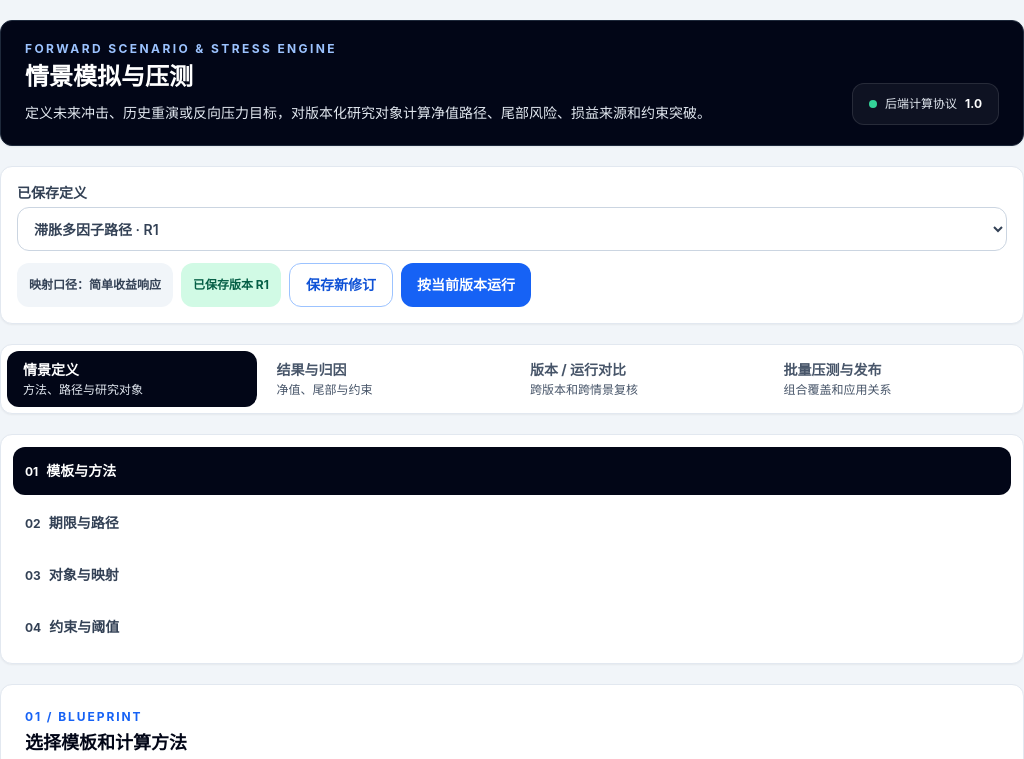
ScenarioAlgorithmCenter › 多对象定义可批量压测，并按用途发布精确运行
Expected: the heading "情景模拟与压测" is shown, [25,62,193,91]
Step 1. Click the tab "批量压测与发布 组合覆盖和应用关系" → x=892, y=379, box [768,351,1017,407]
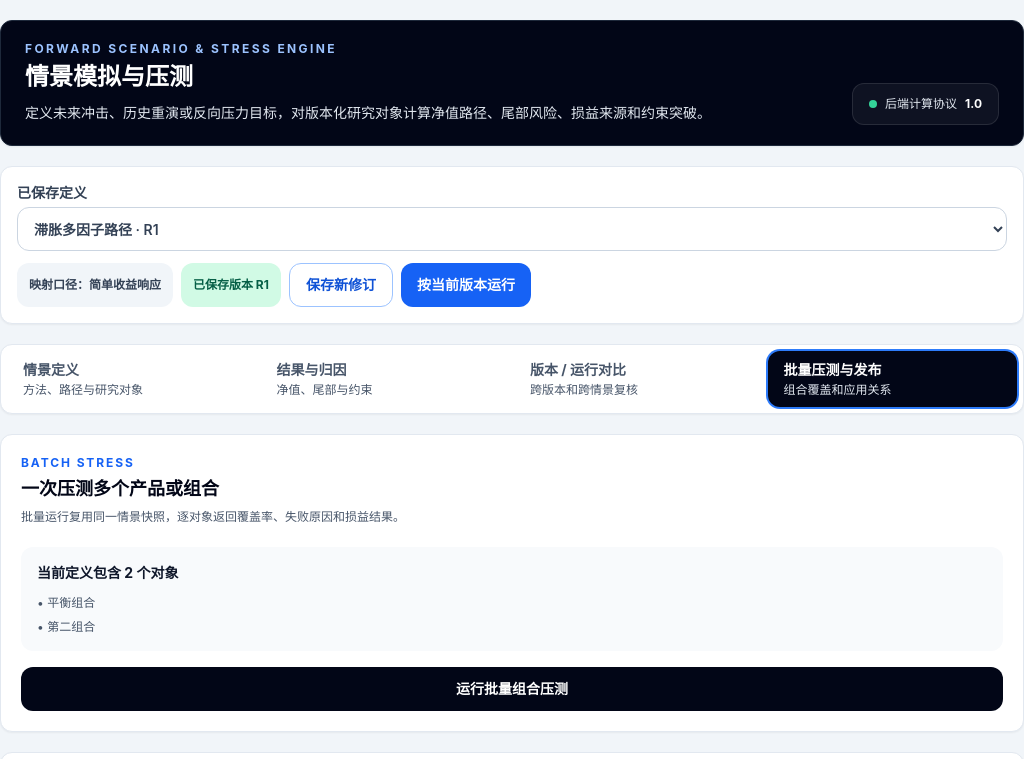
Expected: the text "当前定义包含 2 个对象" is shown, [37,564,178,581]
Step 2. Click the button "运行批量组合压测" → x=512, y=689, box [21,667,1003,711]
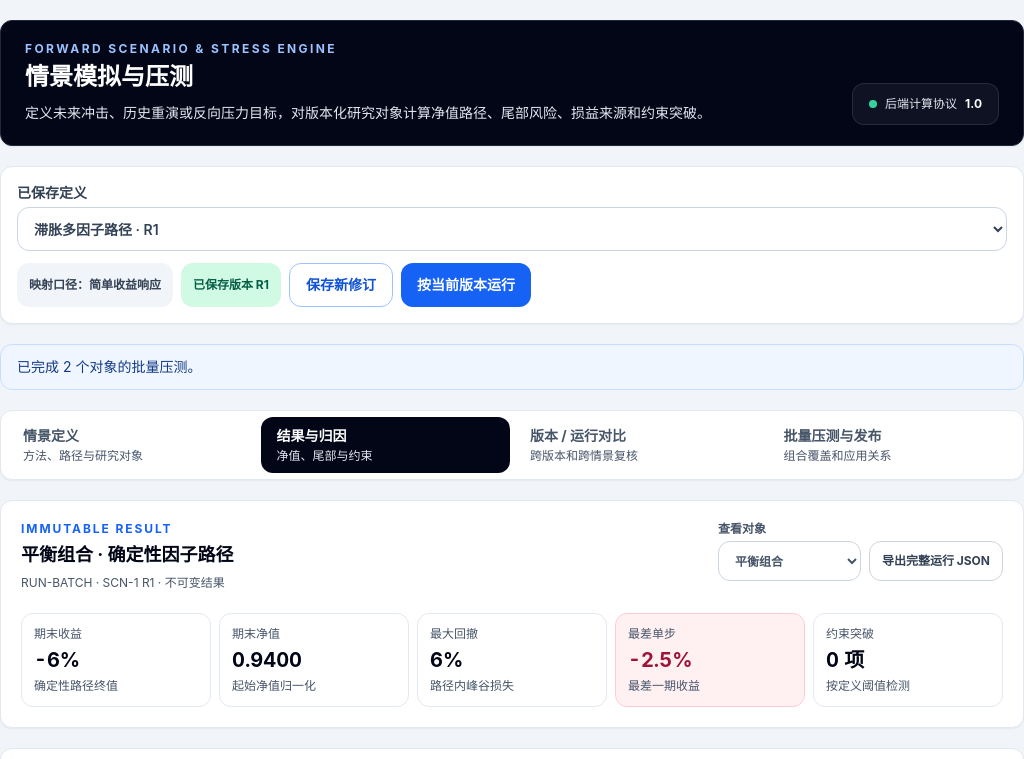
Expected: the text "已完成 2 个对象的批量压测。" is shown, [0,344,1023,390]
Step 3. Click the tab "批量压测与发布 组合覆盖和应用关系" → x=892, y=445, box [768,417,1017,473]
(page scrolled)
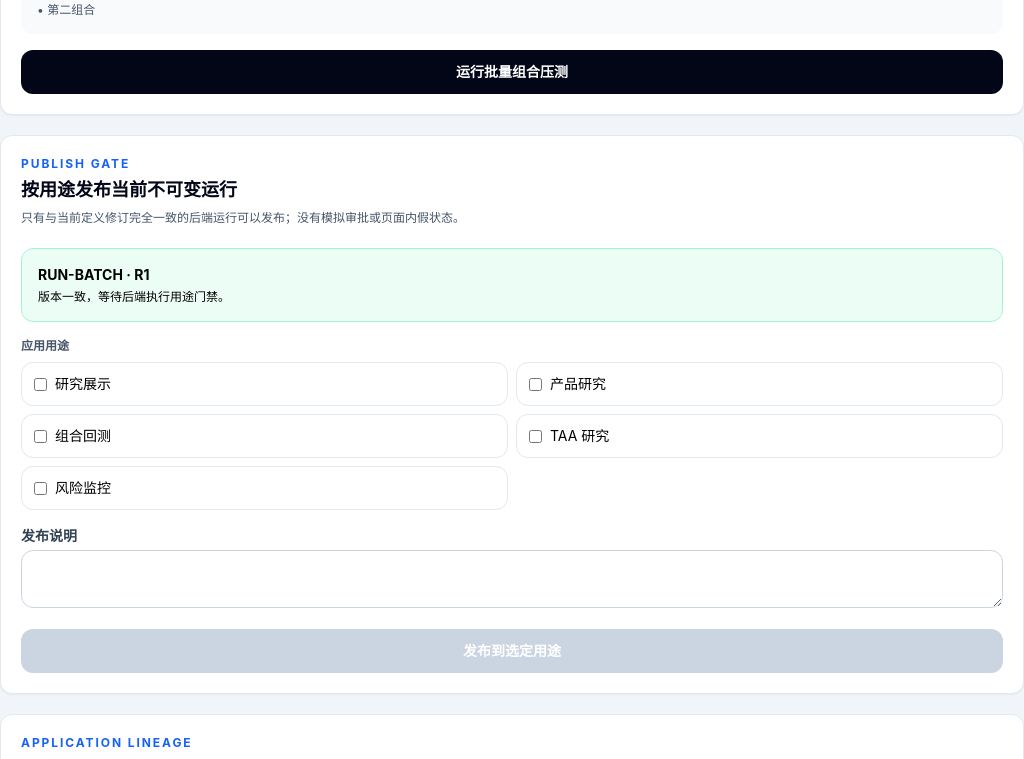
Step 4. Click the checkbox labelled "产品研究" → x=536, y=384, box [529,378,542,390]
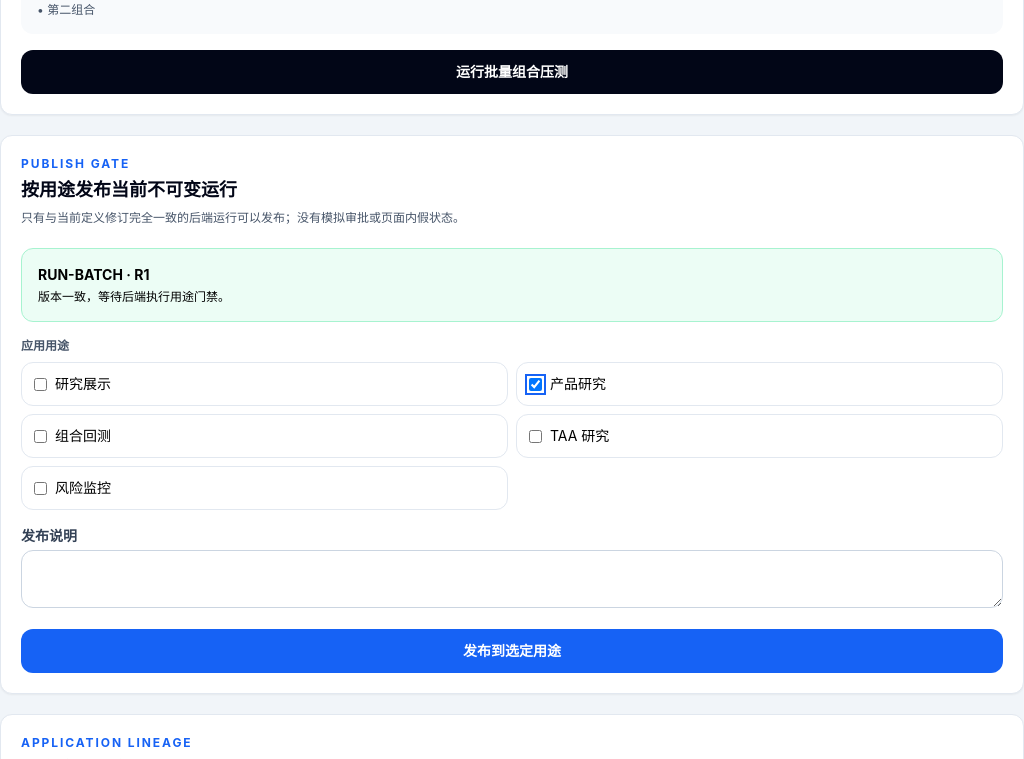
Step 5. Click the button "发布到选定用途" → x=512, y=651, box [21,629,1003,673]
(page scrolled)
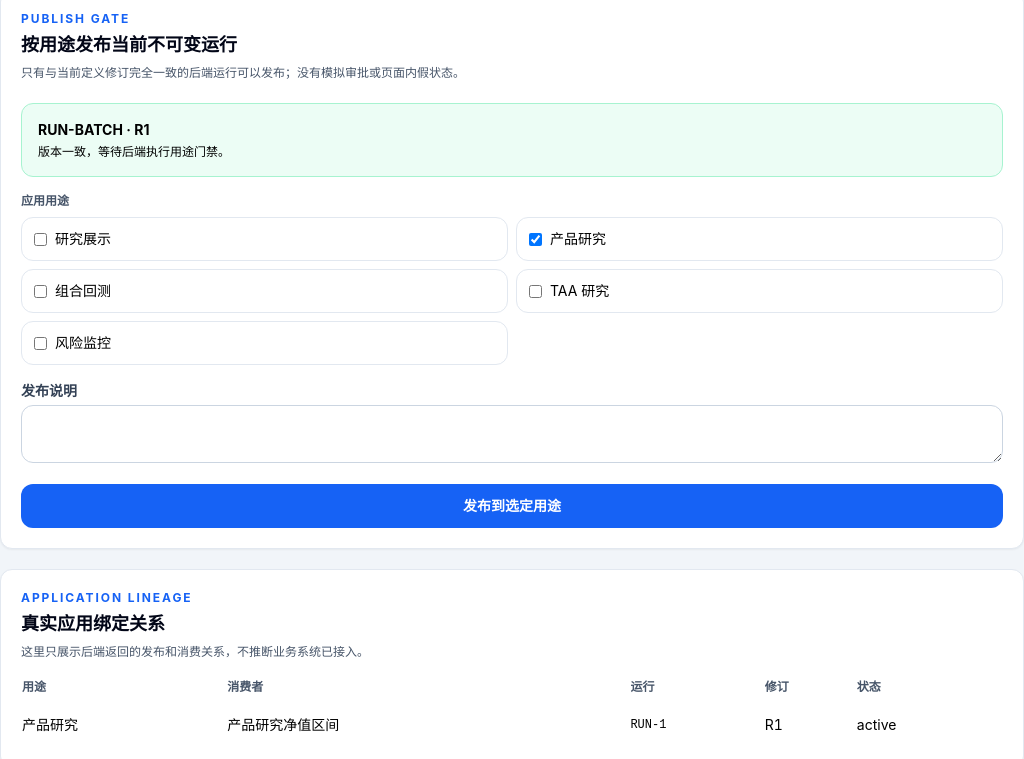
Expected: the text "产品研究净值区间" is shown, [226,703,629,747]
